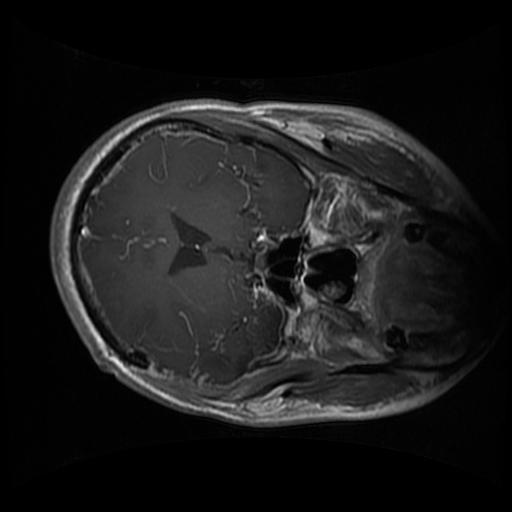glioma: (188, 307, 278, 385)
